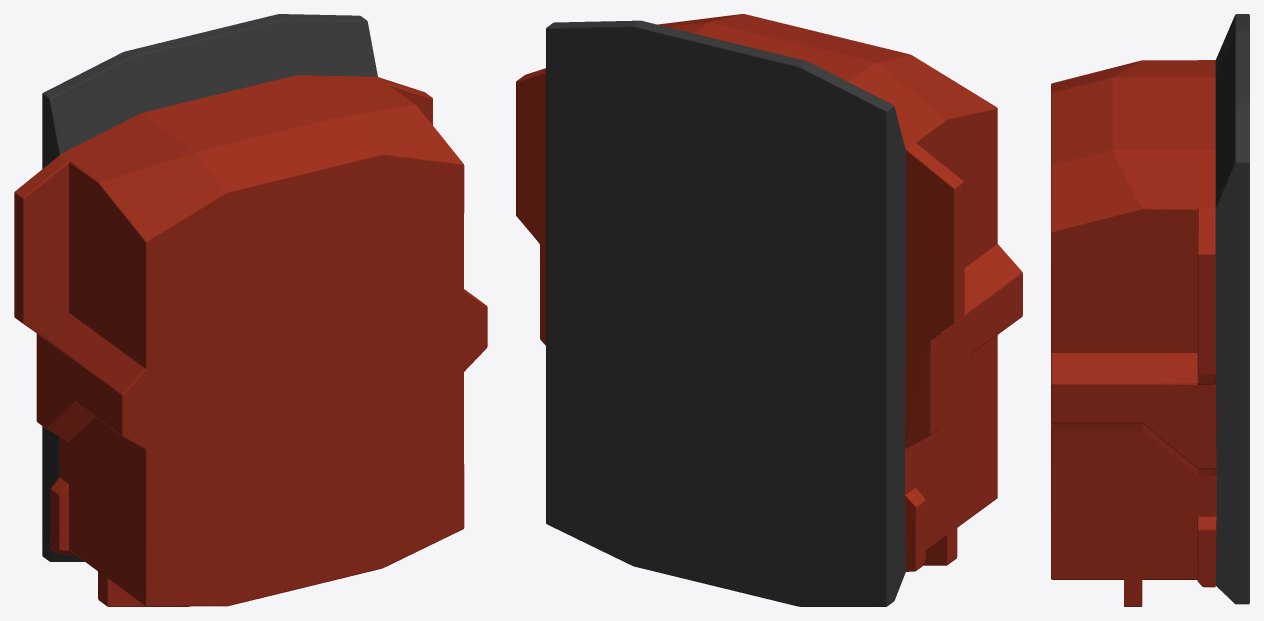
File: x2_chassis.dae
3 views of the same model, side by side, from view 1: azimuth 30°, elevation 25°; view 2: azimuth 150°, elevation 25°; view 3: azimuth 270°, elevation 25° (orthographic). The views are drawn at different scales.
Parts seen in each view (by area): view 1: X2_Body; view 2: X2_Body; view 3: X2_Body.
Part boxes in pixels (box(x1,y1,x2,y2)): X2_Body: box(14, 14, 487, 606); X2_Body: box(516, 14, 1022, 606); X2_Body: box(1051, 14, 1249, 606).
Size of the model in its own units: 0.4203 by 0.1847 by 0.4969.
1 material, 1 textured.
